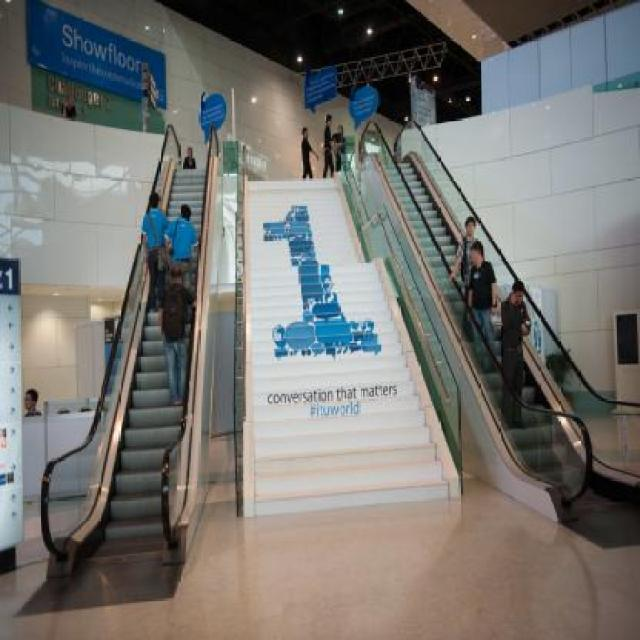stair: (384, 158, 624, 511), (70, 168, 208, 575)
